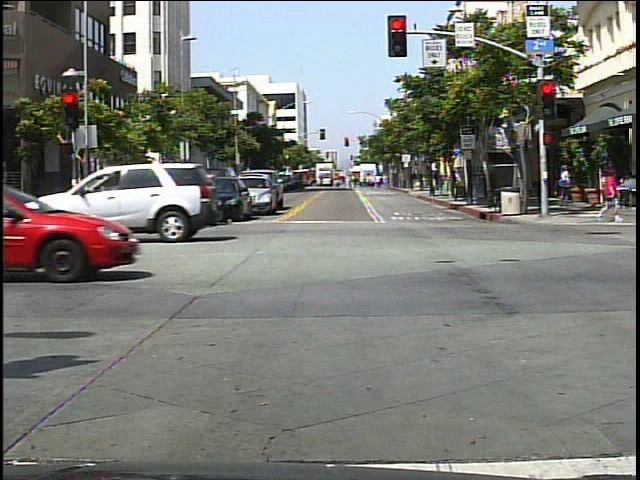person: (72, 172, 103, 236), (596, 167, 627, 229), (555, 162, 578, 213)
